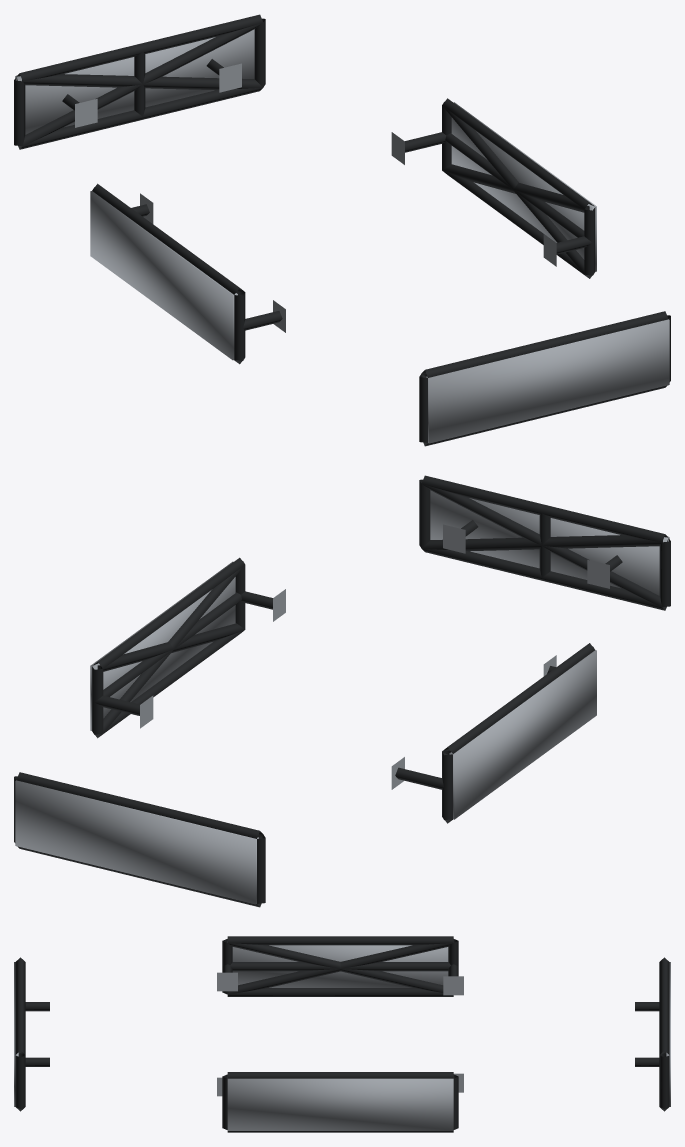
Rendered from hoshino_pipa_protecao.glb.
3 views of the same model, one above another, from view 1: azimuth 30°, elevation 25°; view 2: azimuth 150°, elevation 25°; view 3: azimuth 270°, elevation 25° (orthographic). The views are drawn at different scales.
Parts seen in each view (by area): view 1: Protection_front_Level3_Details, Protection_left_Level3_Details, Protection_rear_Level1_Details, Protection_rear_Level3_Details, Protection_right_Level1_Details, Protection_rear_Level2_Details, Protection_right_Level2_Details, Protection_front_Level1_Details, Protection_right_Level3_Details, Protection_left_Level1_Details; view 2: Protection_rear_Level3_Details, Protection_left_Level3_Details, Protection_front_Level1_Details, Protection_front_Level3_Details, Protection_right_Level1_Details, Protection_front_Level2_Details, Protection_right_Level2_Details, Protection_rear_Level1_Details, Protection_right_Level3_Details, Protection_left_Level1_Details; view 3: Protection_right_Level3_Details, Protection_left_Level1_Details, Protection_left_Level2_Details, Protection_left_Level3_Details, Protection_right_Level1_Details, Protection_rear_Level1_Details, Protection_front_Level1_Details.
Part boxes in pixels (x1=…): Protection_front_Level3_Details: x1=426, y1=319, x2=669, y2=443; Protection_left_Level3_Details: x1=90, y1=191, x2=237, y2=360; Protection_rear_Level1_Details: x1=14, y1=14, x2=265, y2=149; Protection_rear_Level3_Details: x1=15, y1=29, x2=254, y2=134; Protection_right_Level1_Details: x1=391, y1=98, x2=595, y2=278; Protection_rear_Level2_Details: x1=16, y1=23, x2=262, y2=148; Protection_right_Level2_Details: x1=442, y1=106, x2=594, y2=277; Protection_front_Level1_Details: x1=419, y1=311, x2=670, y2=446; Protection_right_Level3_Details: x1=451, y1=102, x2=596, y2=271; Protection_left_Level1_Details: x1=92, y1=183, x2=285, y2=364; Protection_rear_Level3_Details: x1=15, y1=780, x2=258, y2=904; Protection_left_Level3_Details: x1=449, y1=650, x2=596, y2=819; Protection_front_Level1_Details: x1=419, y1=475, x2=670, y2=610; Protection_front_Level3_Details: x1=430, y1=490, x2=669, y2=595; Protection_right_Level1_Details: x1=92, y1=557, x2=285, y2=738; Protection_front_Level2_Details: x1=422, y1=484, x2=668, y2=609; Protection_right_Level2_Details: x1=93, y1=565, x2=244, y2=737; Protection_rear_Level1_Details: x1=14, y1=772, x2=265, y2=907; Protection_right_Level3_Details: x1=90, y1=561, x2=235, y2=730; Protection_left_Level1_Details: x1=391, y1=643, x2=594, y2=823; Protection_right_Level3_Details: x1=227, y1=1078, x2=453, y2=1130; Protection_left_Level1_Details: x1=217, y1=936, x2=463, y2=996; Protection_left_Level2_Details: x1=227, y1=939, x2=454, y2=994; Protection_left_Level3_Details: x1=232, y1=945, x2=448, y2=987; Protection_right_Level1_Details: x1=217, y1=1072, x2=463, y2=1132; Protection_rear_Level1_Details: x1=635, y1=957, x2=669, y2=1111; Protection_front_Level1_Details: x1=15, y1=957, x2=49, y2=1111.
Bounding box in the file's own units: 1.76 × 0.354 × 3.46.
1 material, 1 textured.
